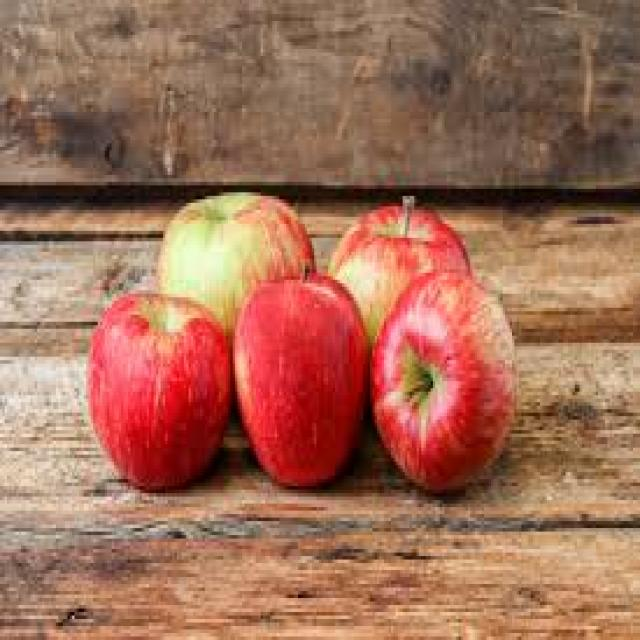apple: (374, 268, 518, 490), (238, 267, 372, 491), (90, 291, 230, 488)
